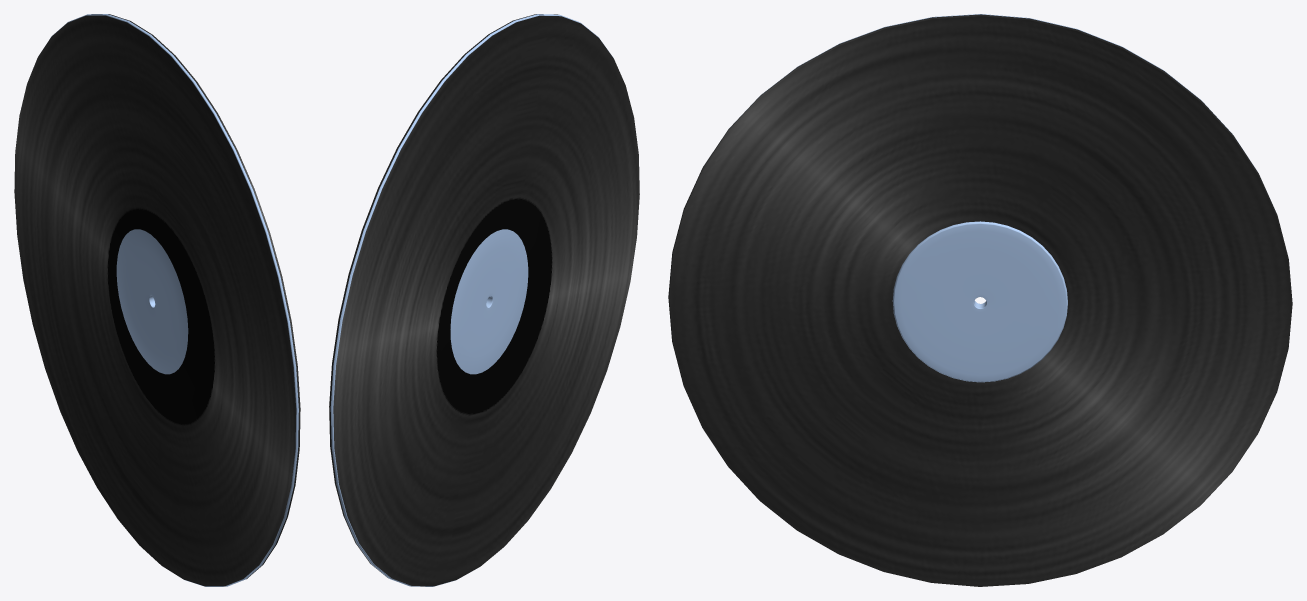
The model's file is Vinyl_S3.fbx.
The picture shows the model from 3 angles, left to right: view 1: azimuth 30°, elevation 25°; view 2: azimuth 150°, elevation 25°; view 3: azimuth 270°, elevation 25°; orthographic projection. The views are drawn at different scales.
Visible parts, largest first — view 1: Vinyl_S_3; view 2: Vinyl_S_3; view 3: Vinyl_S_3.
Part boxes in pixels (x1,y1,x2,y2): Vinyl_S_3: (14, 14, 300, 586); Vinyl_S_3: (329, 14, 639, 586); Vinyl_S_3: (668, 14, 1292, 586).
Size of the model in its own units: 0.1125 by 2.71 by 2.71.
Materials: 2 (1 with a texture image).
